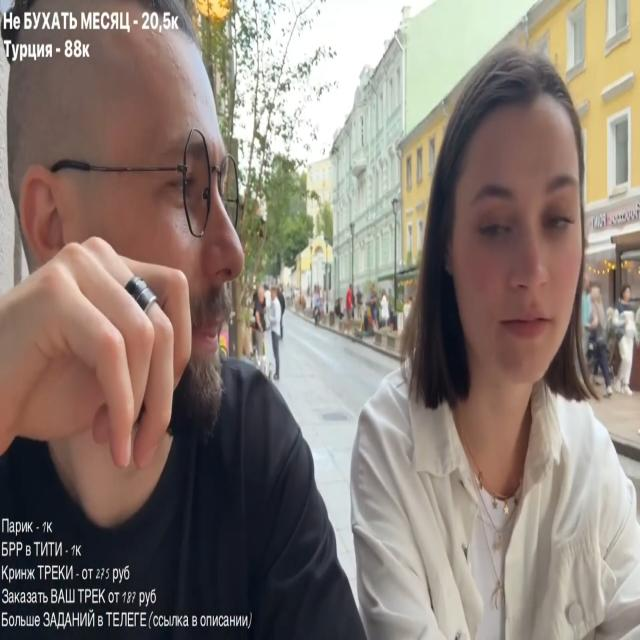Person: (0, 11, 358, 640), (334, 46, 640, 639), (583, 287, 620, 394), (615, 286, 640, 395), (260, 282, 286, 378)
